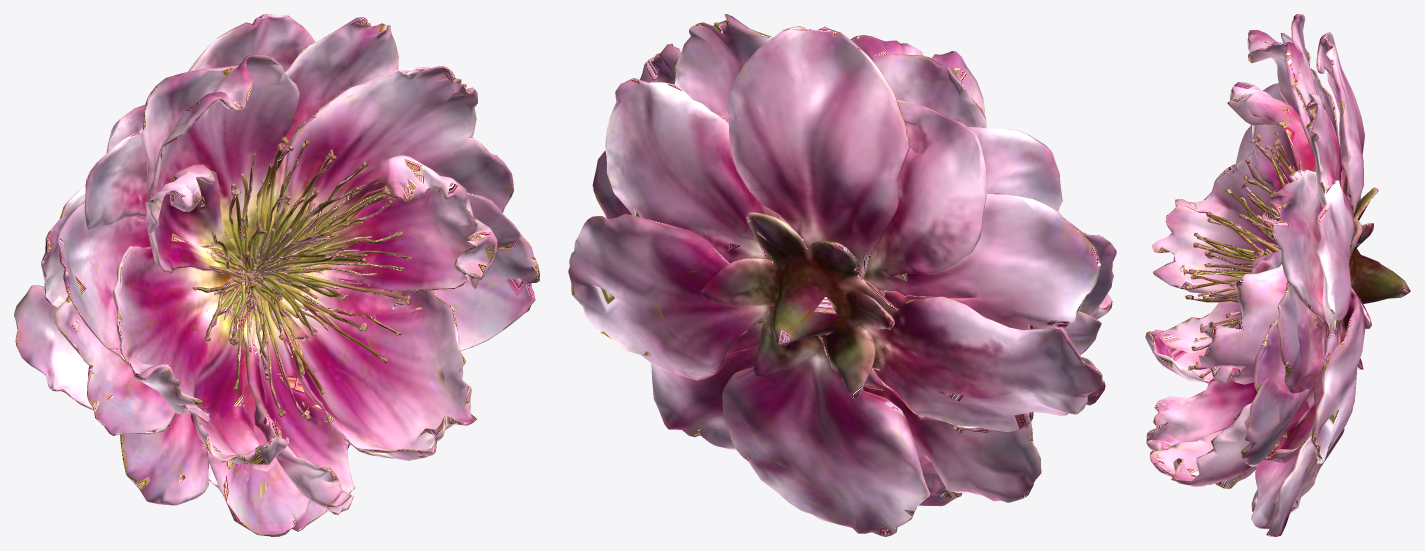
3 renders of one model, left to right at view 1: azimuth 30°, elevation 25°; view 2: azimuth 150°, elevation 25°; view 3: azimuth 270°, elevation 25°, orthographic. The views are drawn at different scales.
Size of the model in its own units: 1.9 by 1.81 by 0.9077.
Materials: 1 (1 with a texture image).
